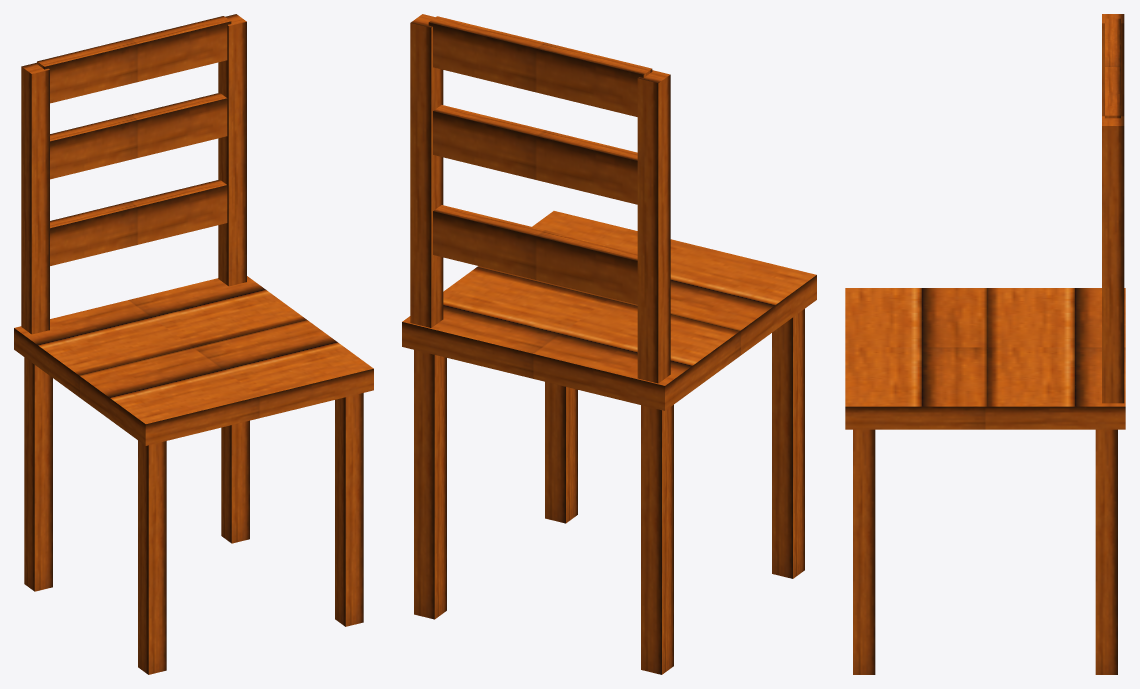
Rendered from Chair.fbx.
3 renders of one model, left to right at view 1: azimuth 30°, elevation 25°; view 2: azimuth 150°, elevation 25°; view 3: azimuth 270°, elevation 25°, orthographic. The views are drawn at different scales.
Parts seen in each view (by area): view 1: Chair; view 2: Chair; view 3: Chair.
Boxes of the visible parts, x1,y1,x2,y2 form: Chair: (14, 14, 373, 674); Chair: (402, 14, 816, 674); Chair: (845, 14, 1125, 674).
Size of the model in its own units: 0.44 by 0.955 by 0.44.
